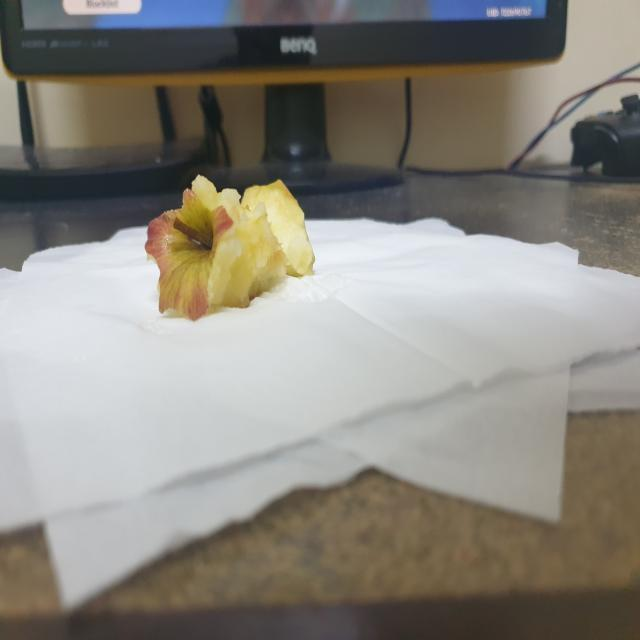apple: (142, 172, 328, 324)
